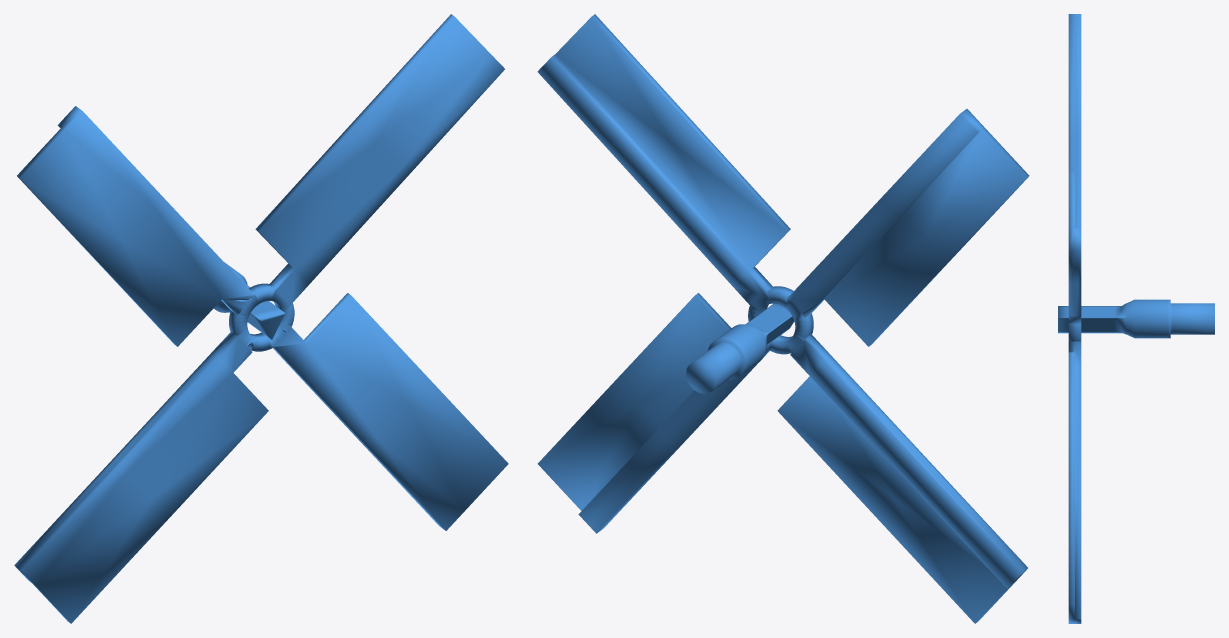
Rendered from wings.obj.
The picture shows the model from 3 angles, left to right: view 1: azimuth 30°, elevation 25°; view 2: azimuth 150°, elevation 25°; view 3: azimuth 270°, elevation 25°; orthographic projection. The views are drawn at different scales.
Parts seen in each view (by area): view 1: Wings; view 2: Wings; view 3: Wings.
Boxes of the visible parts, left/top/right/bottom form: Wings: left=14, top=14, right=508, bottom=623; Wings: left=537, top=14, right=1029, bottom=623; Wings: left=1058, top=14, right=1214, bottom=623.
Bounding box in the file's own units: 63.21 × 63.52 × 19.77.
